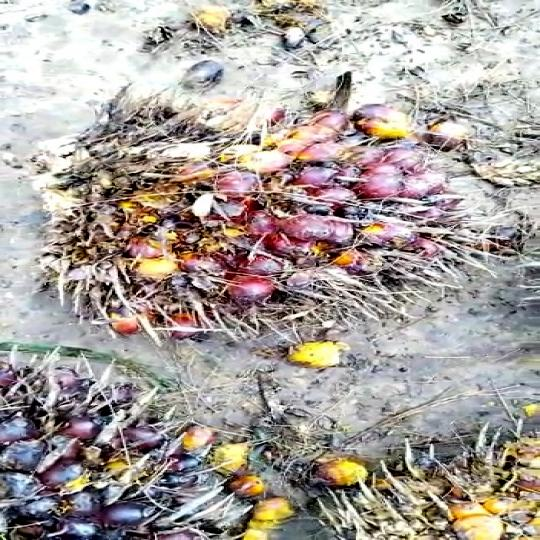masak: (13, 53, 501, 366)
